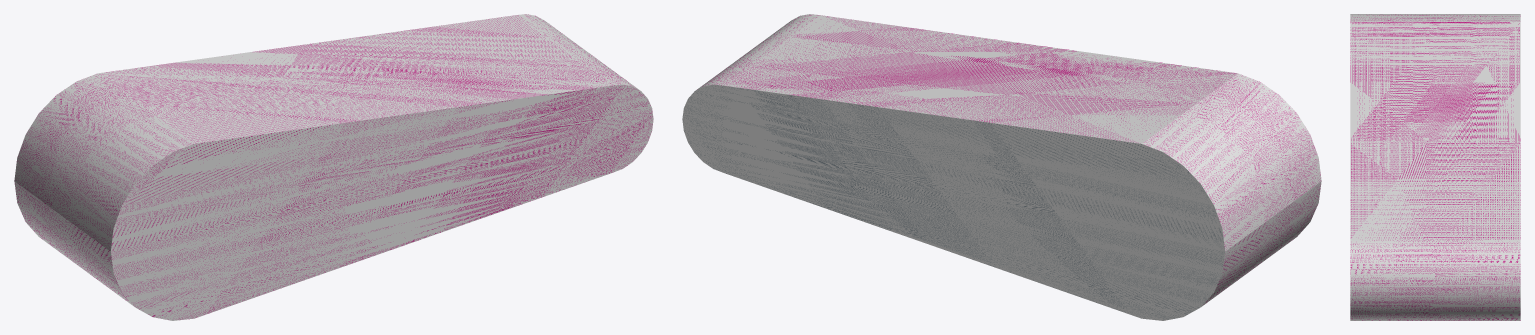
Rendered from mFlipperLeft.dae.
3 views of the same model, side by side, from view 1: azimuth 30°, elevation 25°; view 2: azimuth 150°, elevation 25°; view 3: azimuth 270°, elevation 25° (orthographic). The views are drawn at different scales.
Parts seen in each view (by area): view 1: SketchUp; view 2: SketchUp (×2); view 3: SketchUp.
Part boxes in pixels (x1,y1,x2,y2): SketchUp: [14, 14, 653, 320]; SketchUp (×2): [682, 14, 1321, 320]; SketchUp: [1350, 14, 1520, 320].
Size of the model in its own units: 384 by 118 by 118.
